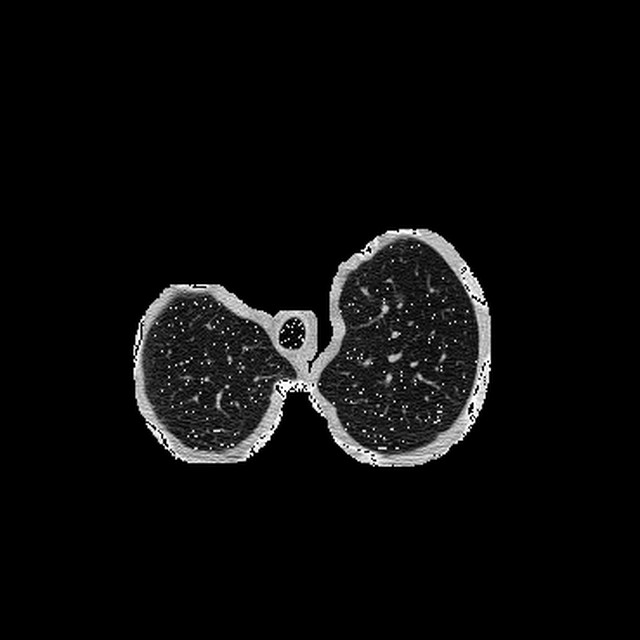PN: (394, 291, 404, 302)
